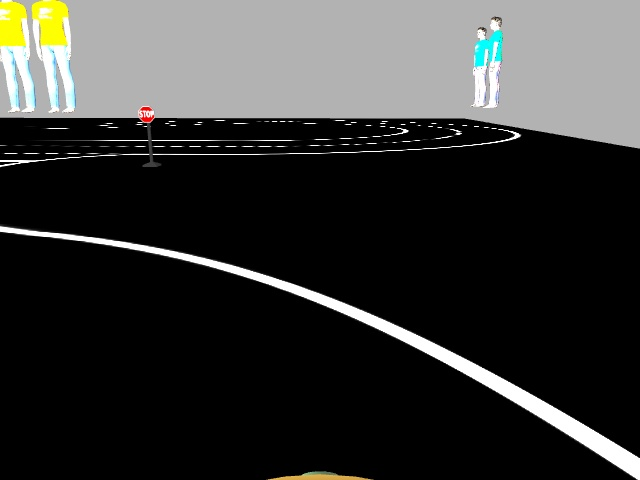Stop: (136, 105, 154, 123)
